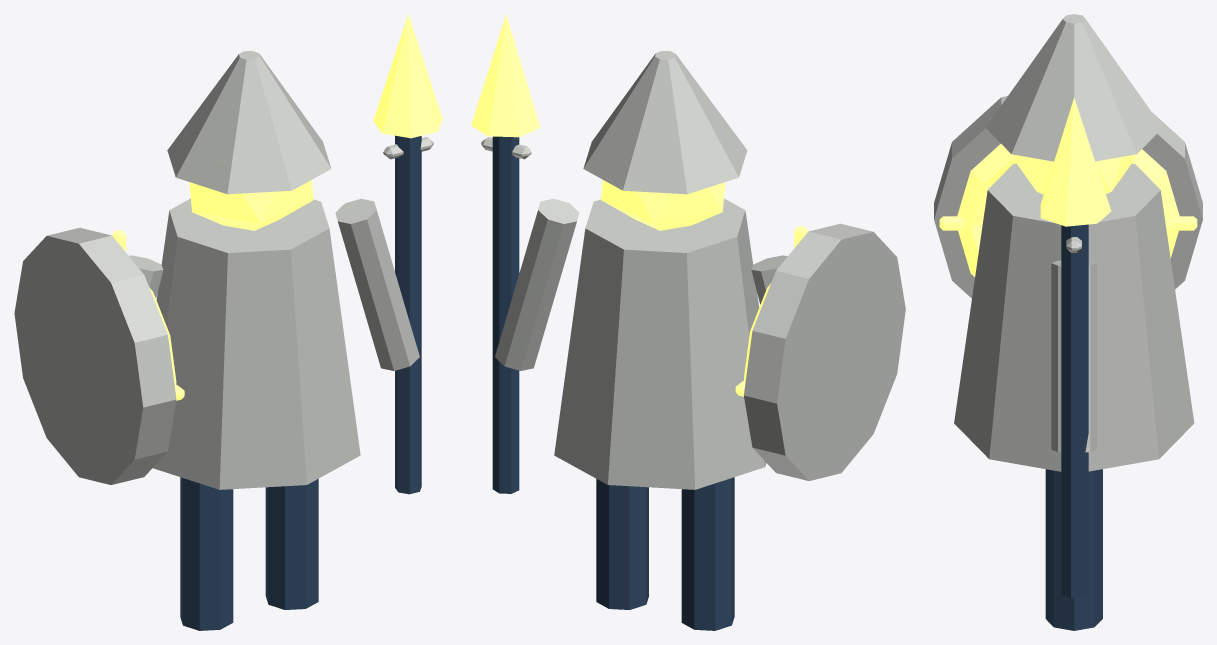
Rendered from hero_solar_vanguard.glb.
The picture shows the model from 3 angles, left to right: view 1: azimuth 30°, elevation 25°; view 2: azimuth 150°, elevation 25°; view 3: azimuth 270°, elevation 25°; orthographic projection. The views are drawn at different scales.
Parts seen in each view (by area): view 1: hero_solar_vanguard; view 2: hero_solar_vanguard; view 3: hero_solar_vanguard.
Part boxes in pixels (<box>): hero_solar_vanguard: <box>14,14,442,630</box>; hero_solar_vanguard: <box>471,14,905,630</box>; hero_solar_vanguard: <box>934,14,1202,630</box>.
Bounding box in the file's own units: 1.53 × 2.24 × 0.94.
